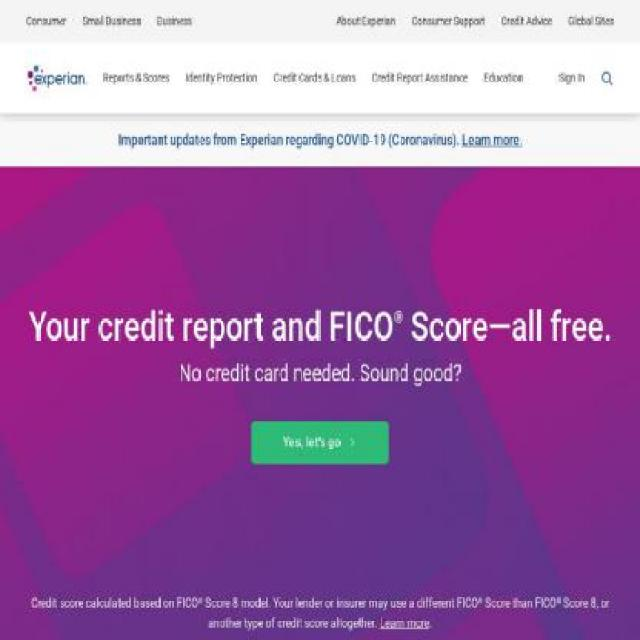button: (364, 42, 476, 113), (265, 42, 364, 113), (94, 42, 178, 113), (251, 421, 389, 464), (475, 42, 531, 113), (550, 42, 593, 113), (412, 12, 502, 31), (336, 12, 412, 31), (83, 12, 157, 31), (501, 12, 568, 31), (26, 12, 83, 31), (569, 12, 613, 31), (157, 12, 192, 31)
